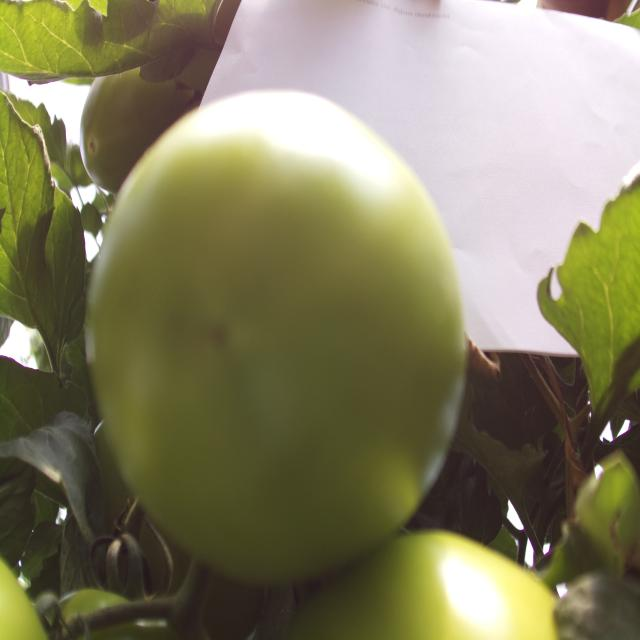yesil: (69, 70, 475, 586)
